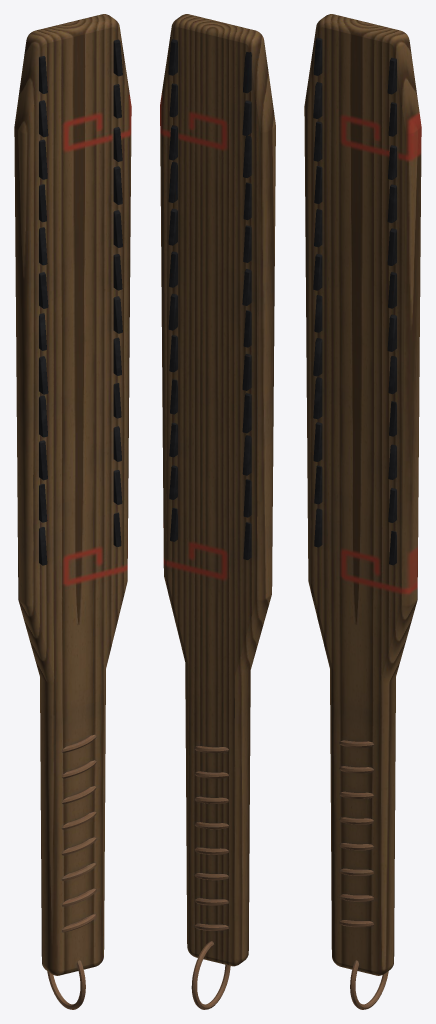
The model's file is macuahuitl.glb.
3 renders of one model, left to right at view 1: azimuth 30°, elevation 25°; view 2: azimuth 150°, elevation 25°; view 3: azimuth 330°, elevation 25°, orthographic.
Visible parts, largest first — view 1: macuahuitl; view 2: macuahuitl; view 3: macuahuitl.
Boxes of the visible parts, box(x1,y1,x2,y2) form: macuahuitl: box(14, 14, 131, 1009); macuahuitl: box(160, 14, 275, 1009); macuahuitl: box(304, 14, 421, 1009).
Bounding box in the file's own units: 0.112 × 0.9624 × 0.0649.
Materials: 1 (1 with a texture image).
